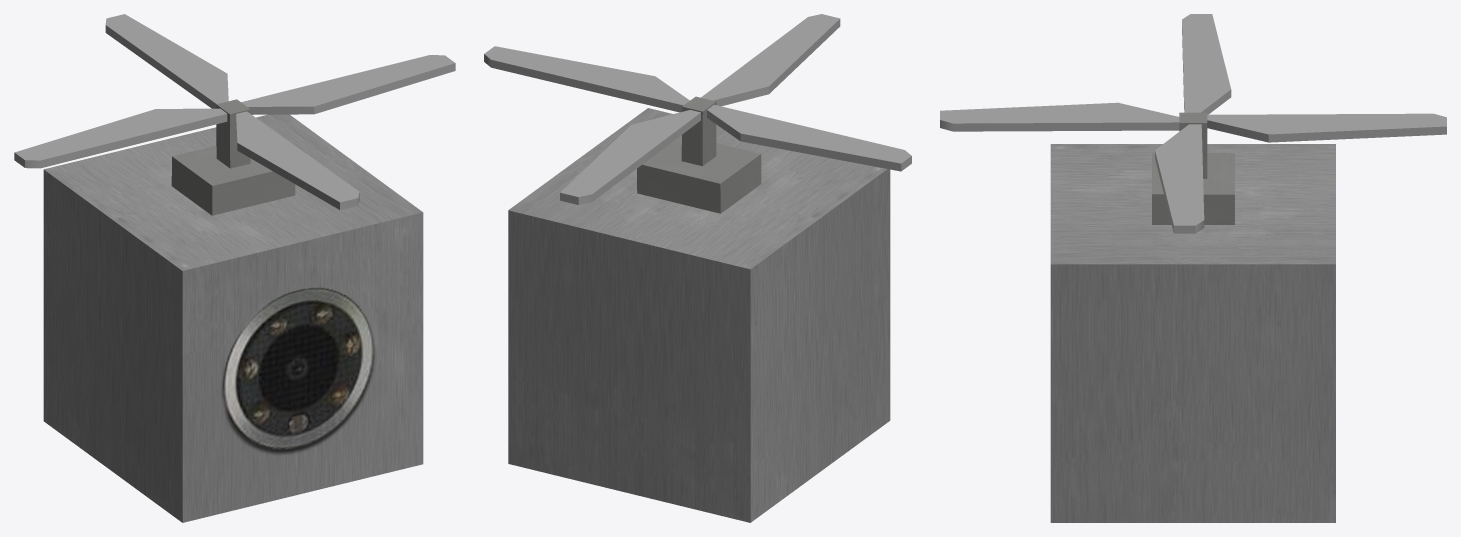
File: SID.fbx
3 views of the same model, side by side, from view 1: azimuth 30°, elevation 25°; view 2: azimuth 150°, elevation 25°; view 3: azimuth 270°, elevation 25° (orthographic). The views are drawn at different scales.
Parts seen in each view (by area): view 1: S_I_D; view 2: S_I_D; view 3: S_I_D.
Boxes of the visible parts, x1,y1,x2,y2 form: S_I_D: (14, 14, 455, 522); S_I_D: (484, 14, 911, 522); S_I_D: (940, 14, 1446, 522).
Bounding box in the file's own units: 1.75 × 1.33 × 1.78.
